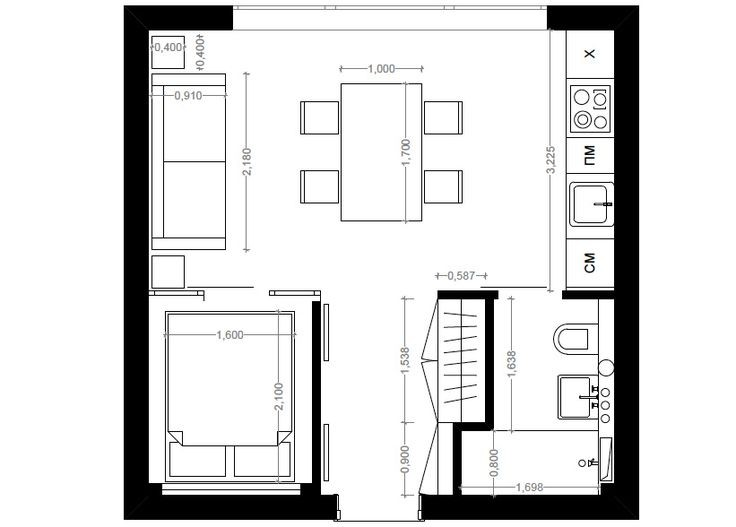room: (120, 4, 646, 292), (416, 290, 644, 519), (125, 291, 339, 521)
wall: (122, 1, 155, 524), (611, 10, 643, 520), (127, 492, 343, 526), (417, 493, 646, 524), (125, 2, 234, 37), (546, 2, 642, 36), (311, 300, 324, 495), (483, 284, 497, 432), (451, 424, 468, 497), (558, 286, 613, 306), (436, 289, 500, 304), (452, 419, 497, 432)
window: (117, 1, 644, 288), (234, 2, 546, 16)
